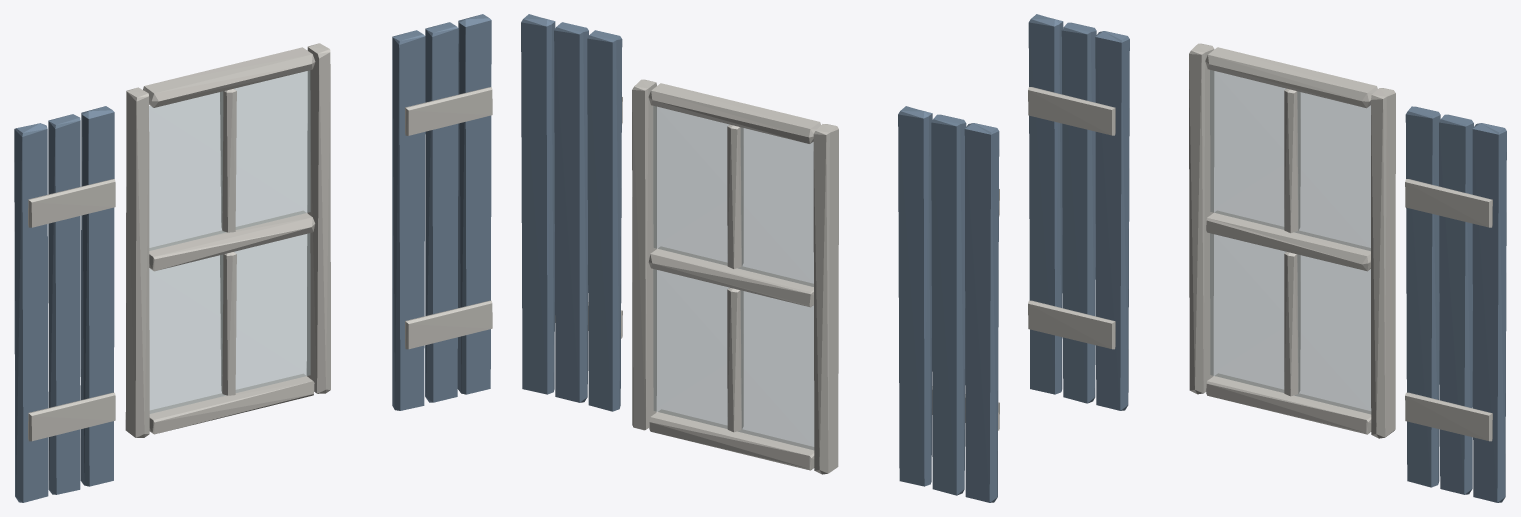
File: SM_Kit_Window_DoubleHung_Shutters_LOD2.glb
The picture shows the model from 3 angles, left to right: view 1: azimuth 30°, elevation 25°; view 2: azimuth 150°, elevation 25°; view 3: azimuth 330°, elevation 25°; orthographic projection.
Parts seen in each view (by area): view 1: SM_Kit_Window_DoubleHung_Shutters_LOD2; view 2: SM_Kit_Window_DoubleHung_Shutters_LOD2; view 3: SM_Kit_Window_DoubleHung_Shutters_LOD2.
Boxes of the visible parts, bbox=[...] form: SM_Kit_Window_DoubleHung_Shutters_LOD2: bbox=[14, 14, 492, 502]; SM_Kit_Window_DoubleHung_Shutters_LOD2: bbox=[521, 14, 999, 502]; SM_Kit_Window_DoubleHung_Shutters_LOD2: bbox=[1028, 14, 1506, 502].
Bounding box in the file's own units: 1.67 × 1.26 × 0.2486.
